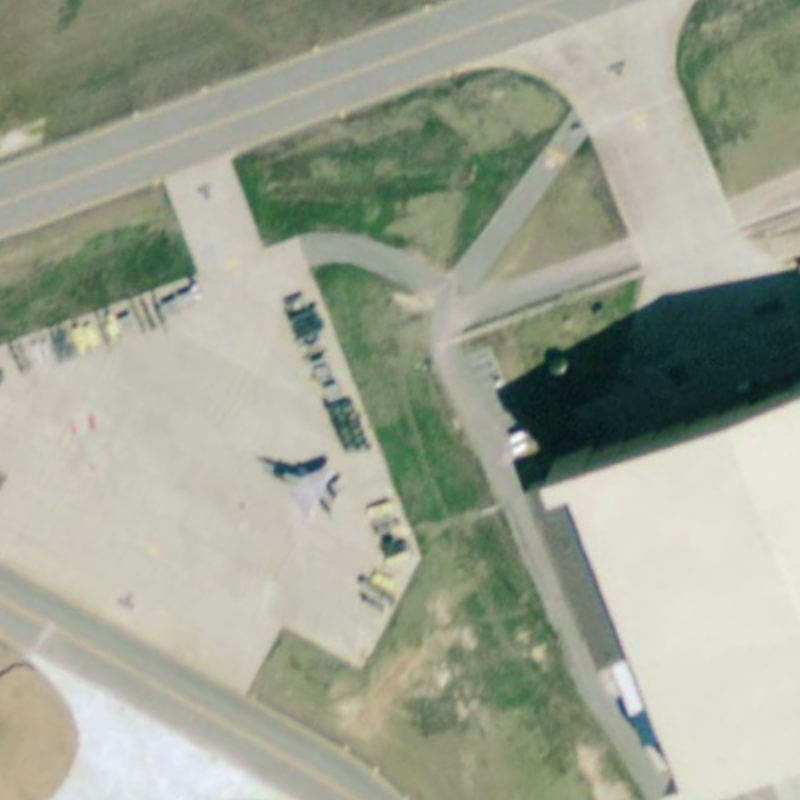A13: (253, 448, 344, 523)
